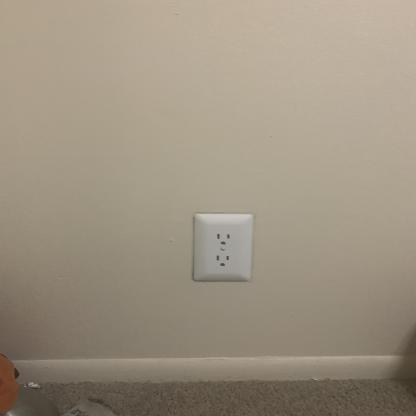OUTLET: (192, 213, 253, 281)
